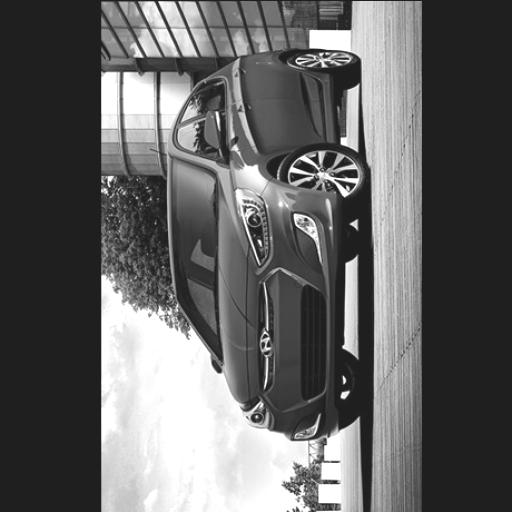hatchback: (166, 47, 368, 439)
